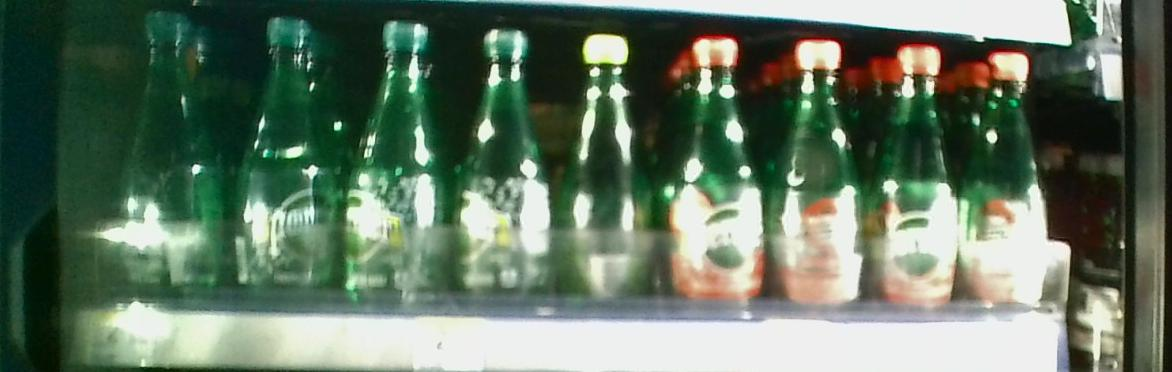bottle: (113, 5, 219, 292), (344, 20, 448, 304), (237, 10, 331, 308), (458, 18, 555, 305), (562, 16, 651, 316), (675, 29, 768, 304), (779, 36, 865, 301), (876, 36, 958, 311), (968, 51, 1052, 306)
